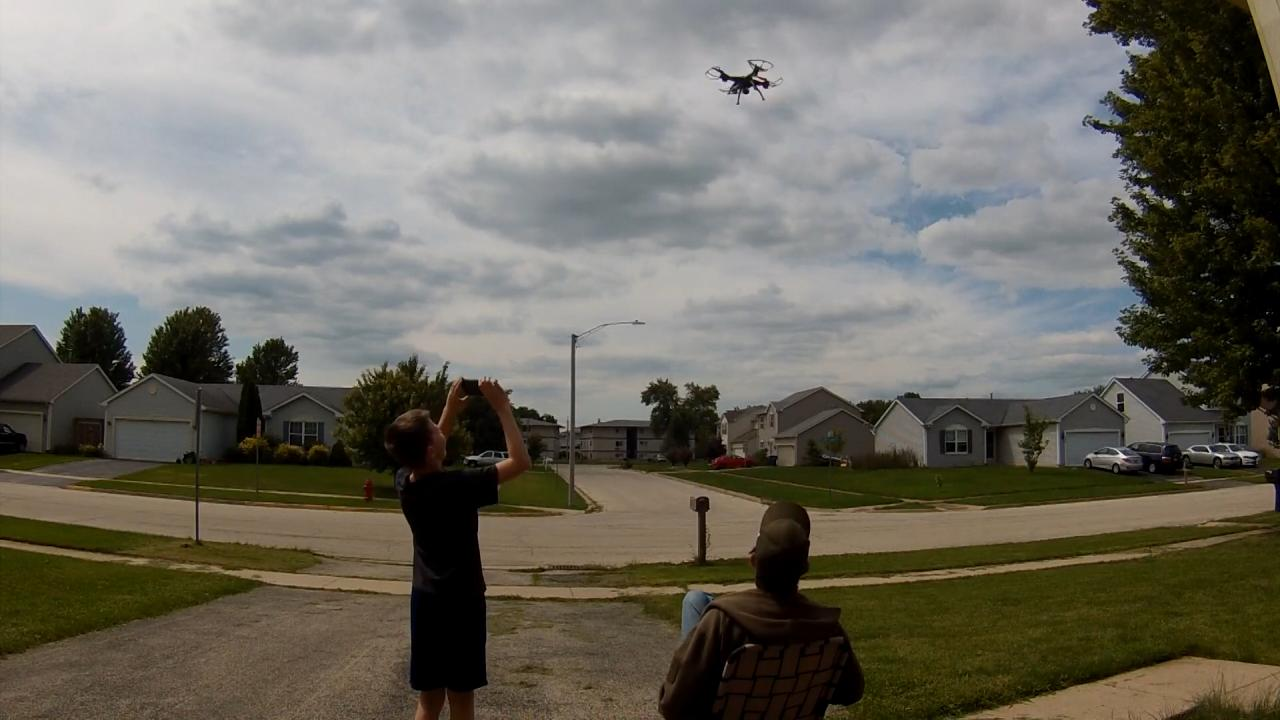Drone: (698, 46, 788, 112)
